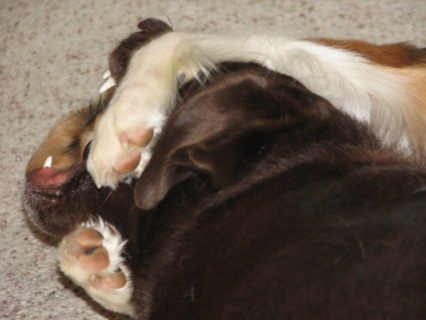Cat: (56, 28, 425, 316)
